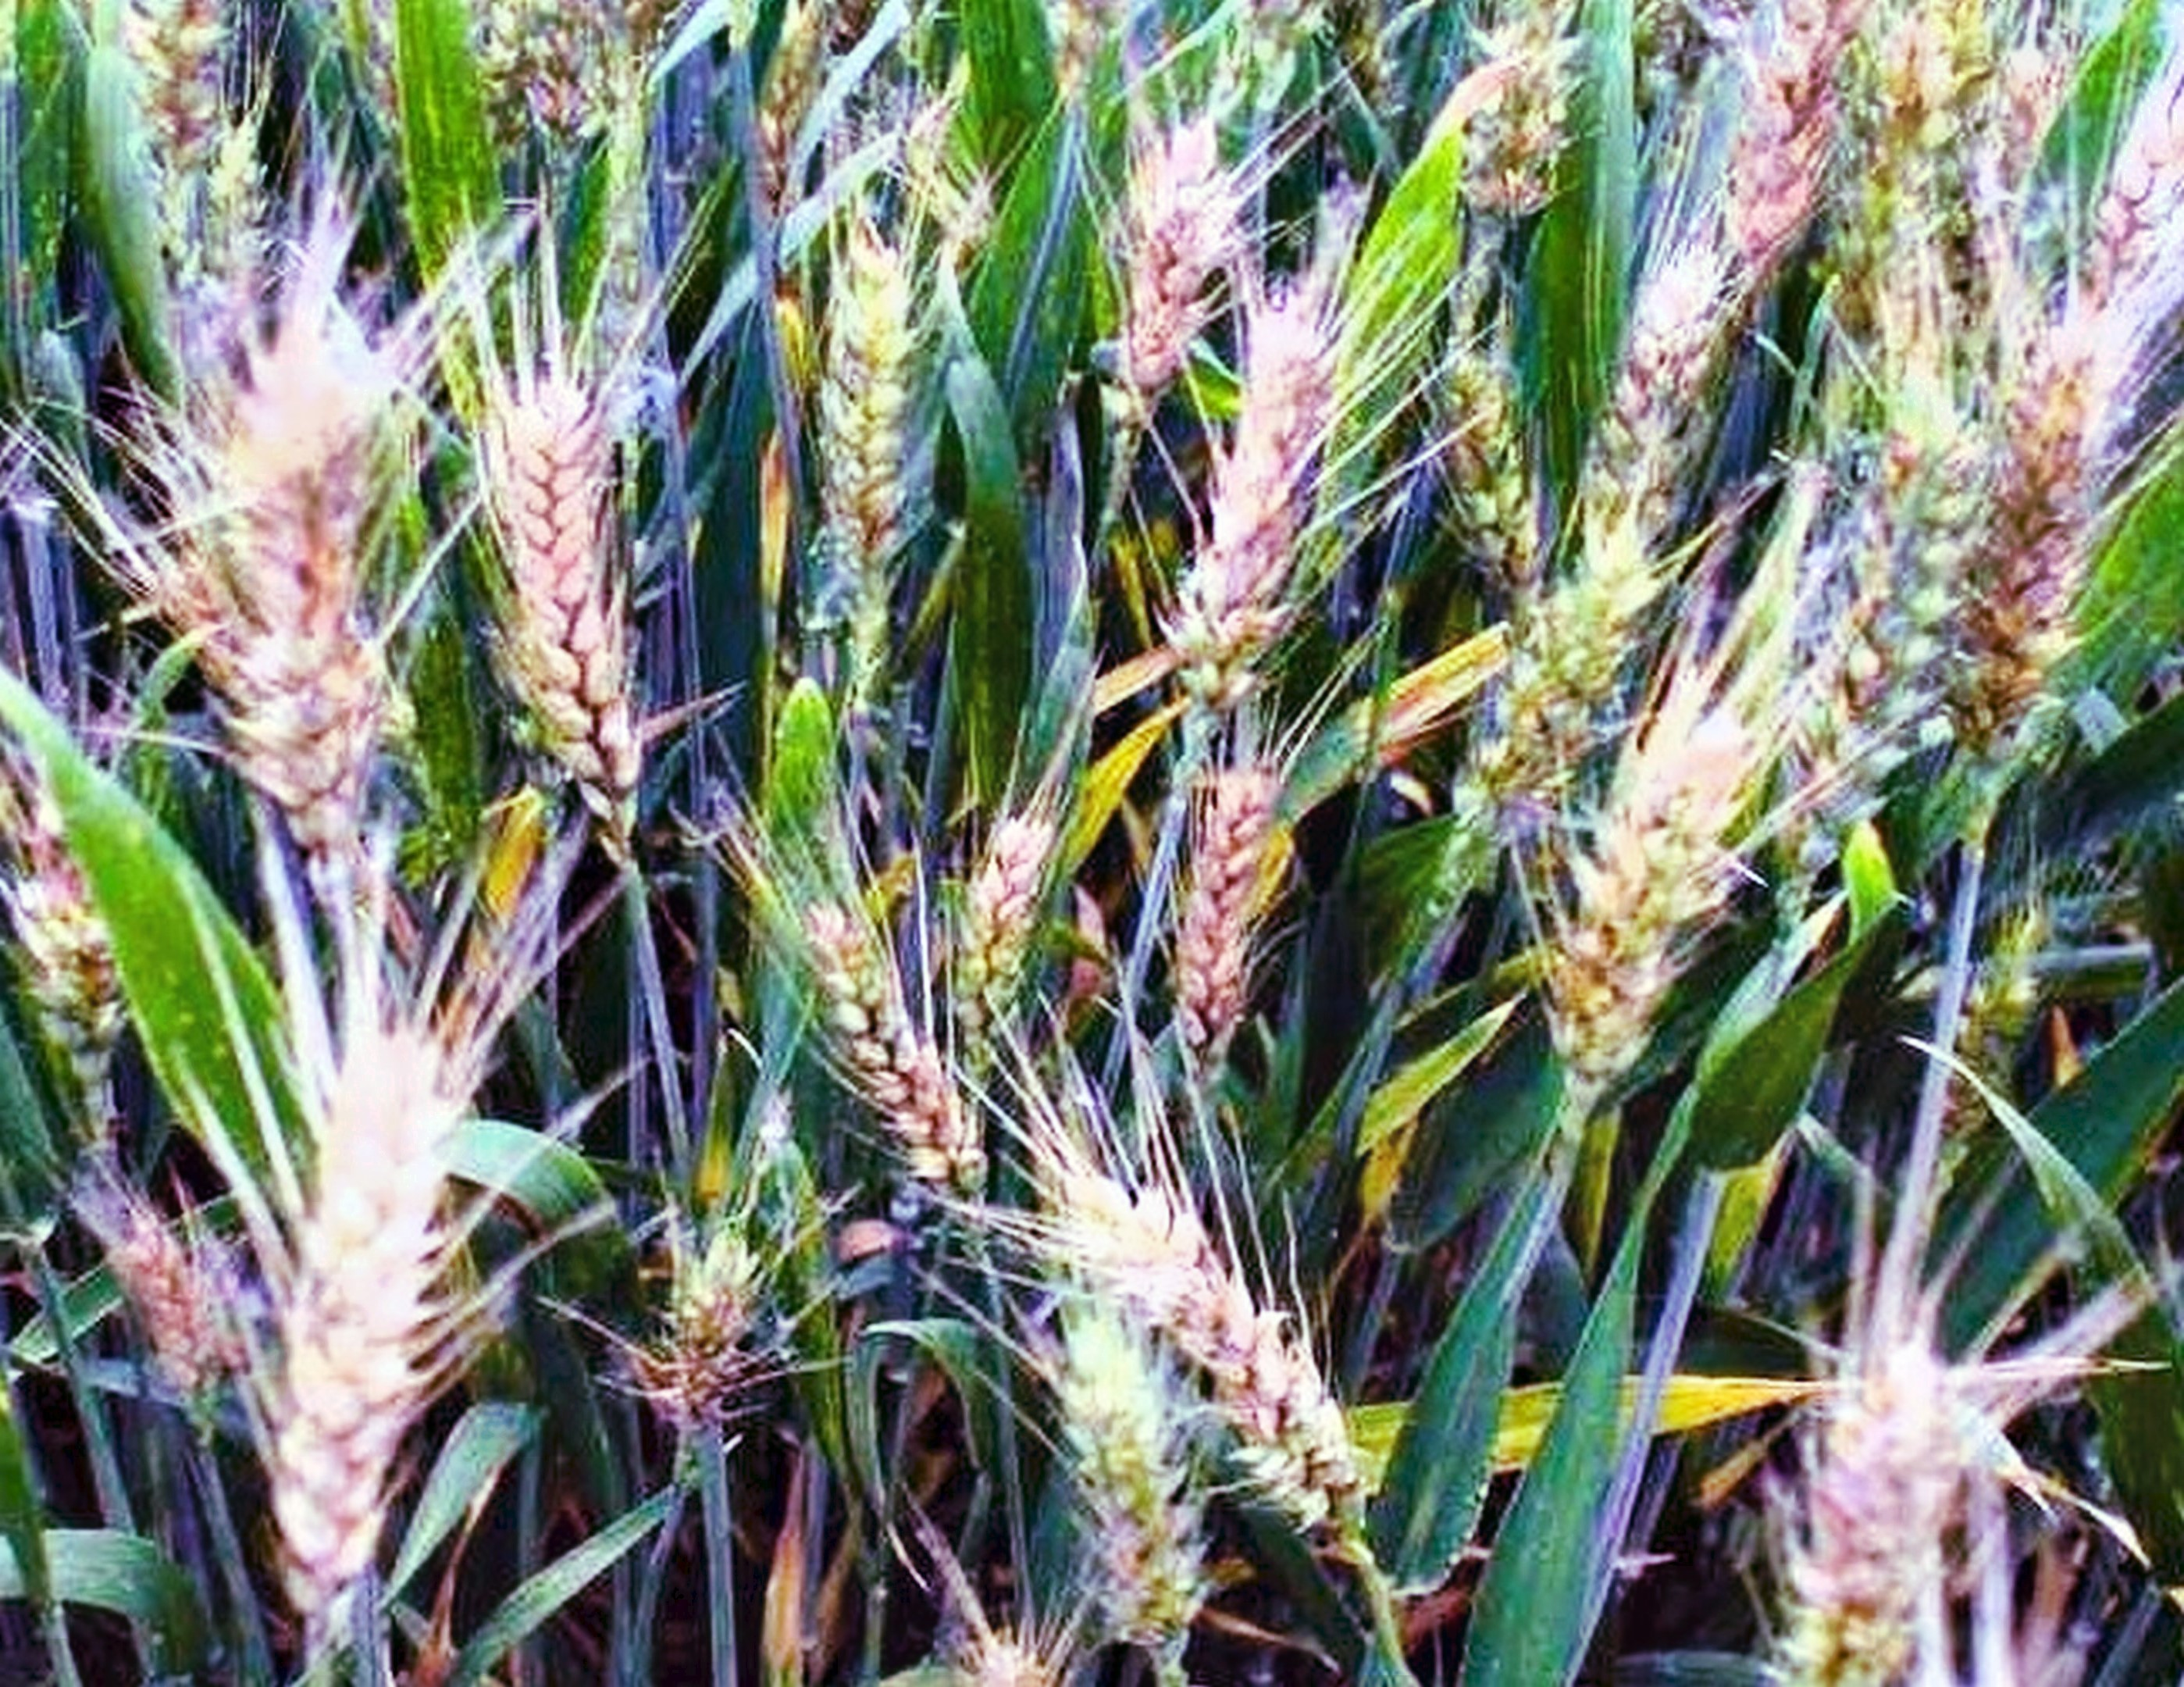Wheat scab: (482, 367, 661, 774), (1157, 324, 1344, 704), (790, 897, 995, 1184), (1171, 764, 1300, 1074)
